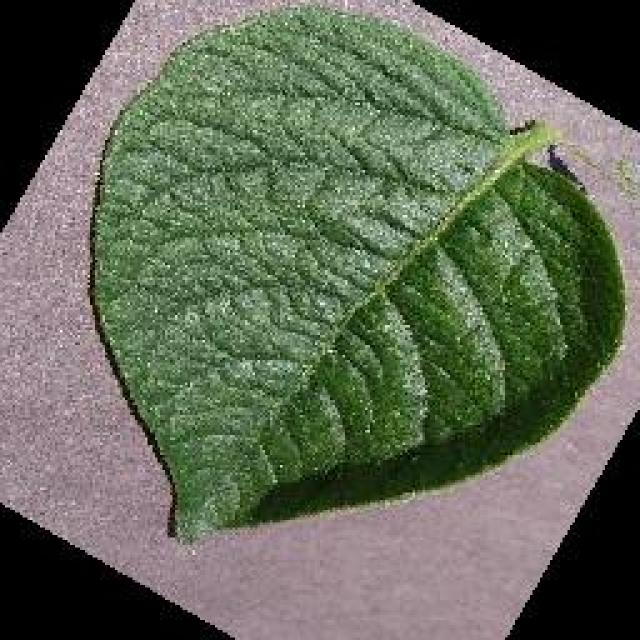Potato___healthy: (88, 3, 627, 552)
